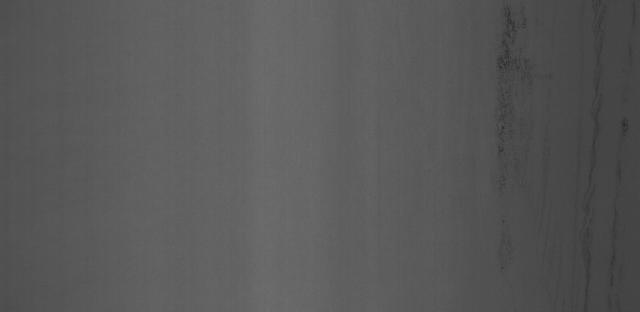inclusion: (483, 15, 539, 194)
water_spot: (576, 21, 610, 293)
